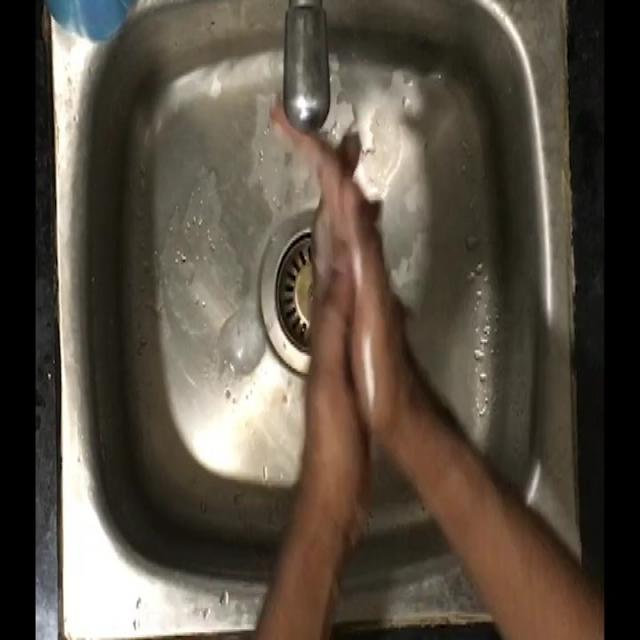step_3: (257, 82, 414, 433)
